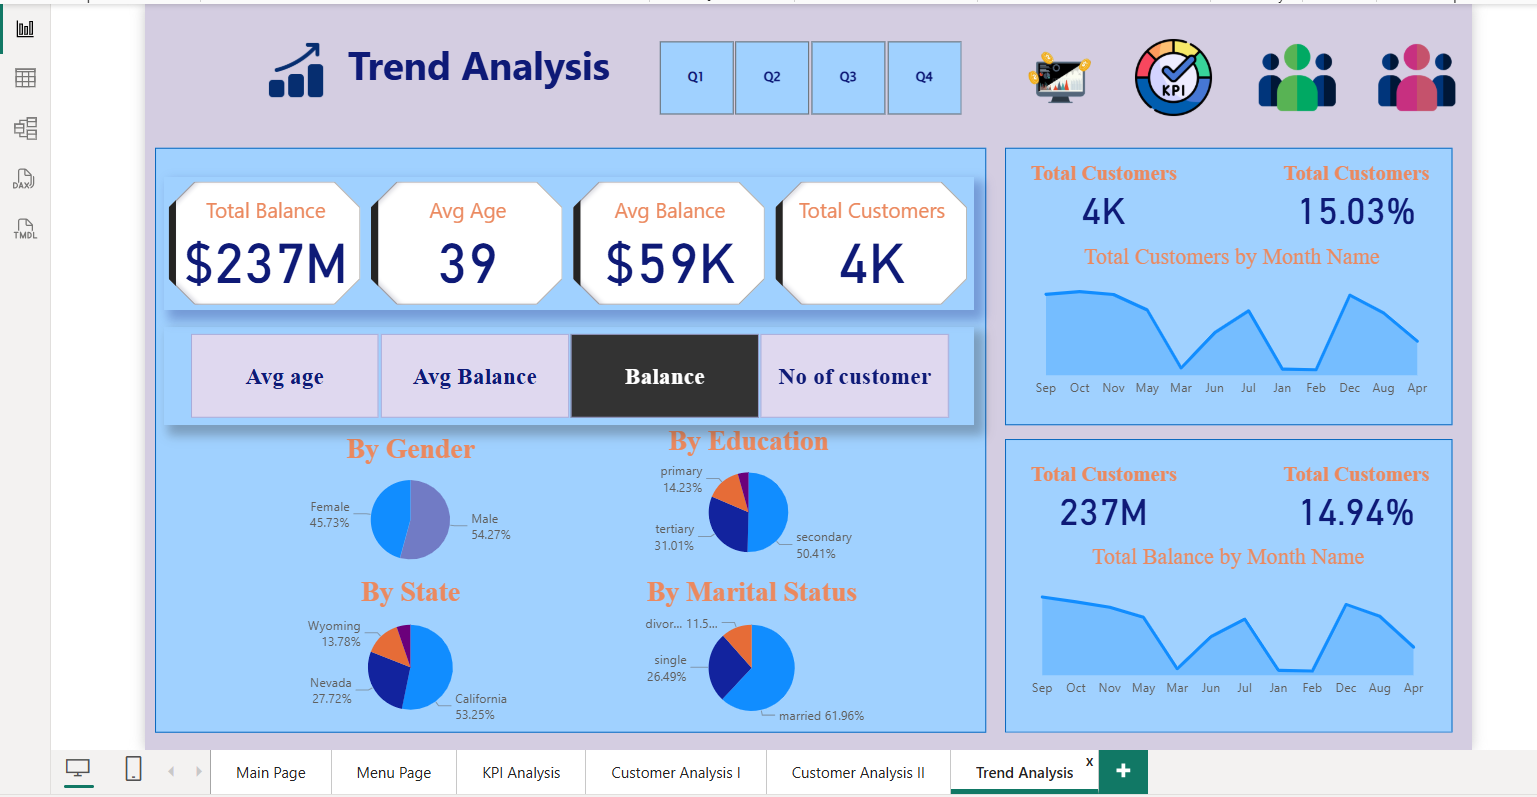

What the dashboard file says about the page in this screenshot:
{"tool":"powerbi","page":{"name":"Trend Analysis","canvas":[1280,720],"ordinal":5},"visuals":[{"type":"shape","box":[830,419.8,431.9,283.5],"z":0},{"type":"shape","box":[830,138.7,431.9,267.8],"z":1000},{"type":"shape","box":[9.7,138.7,802.3,564.6],"z":2000},{"type":"cardVisual","fields":{"Data":["Measure.Total Balance","Measure.Avg Age","Measure.Avg Balance","Measure.Total Customers"]},"box":[18.1,166.5,781.8,129.1],"z":3000},{"type":"pieChart","title":"By State","fields":{"Category":["Bank data.State"],"Y":["Measure.Measure Logic"]},"box":[146,552.5,220.8,146],"z":4000},{"type":"pieChart","title":"By Education","fields":{"Category":["Bank data.Education"],"Y":["Measure.Measure Logic"]},"box":[470.5,406.6,224.4,138.7],"z":5000},{"type":"pieChart","title":"By Gender","fields":{"Category":["Bank data.Gender"],"Y":["Measure.Measure Logic"]},"box":[150.8,413.8,211.1,138.7],"z":6000},{"type":"pieChart","title":"By Marital Status","fields":{"Category":["Bank data.Marital"],"Y":["Measure.Measure Logic"]},"box":[470.5,552.5,230.4,147.2],"z":7000},{"type":"slicer","fields":{"Values":["Selection Table.Measure"]},"box":[18.1,311.3,781.8,95.3],"z":8000},{"type":"areaChart","fields":{"Y":["Measure.Total Customers"],"Category":["Date Table.Month Name"]},"box":[851.7,231.6,394.5,156.8],"z":9000},{"type":"card","title":"Total Customers","fields":{"Values":["Measure.Total Customers"]},"box":[848.1,152,154.4,67.6],"z":10000},{"type":"card","title":"Total Customers","fields":{"Values":["Measure.Costomer MoM"]},"box":[1091.8,152,154.4,67.6],"z":11000},{"type":"areaChart","fields":{"Category":["Date Table.Month Name"],"Y":["Measure.Total Balance"]},"box":[848.1,521.2,394.5,156.8],"z":12000},{"type":"card","title":"Total Customers","fields":{"Values":["Measure.Total Balance"]},"box":[848.1,442.8,154.4,67.6],"z":13000},{"type":"card","title":"Total Customers","fields":{"Values":["Measure.Balance MoM"]},"box":[1091.8,442.8,154.4,67.6],"z":14000},{"type":"textbox","box":[190.6,29,279.9,66.4],"z":15000},{"type":"image","box":[840.9,29,84.5,84.5],"z":16000},{"type":"image","box":[950.7,29,84.5,84.5],"z":17000},{"type":"image","box":[1070.1,29,84.5,84.5],"z":18000},{"type":"image","box":[1184.7,29,85,84.5],"z":19000},{"type":"image","box":[111,29,70,70],"z":20000},{"type":"slicer","fields":{"Values":["Date Table.Quarter Name"]},"box":[470.5,29,341.4,84.5],"z":21000}]}

Visuals, with their boxes on the page's 1280x720 design canvas (x1, y1, x2, y2). These are canvas units, not pixel positions in the 1537x797 screenshot, which may show the page scaled, cropped or inside an application window:
shape: select_region(830, 420, 1262, 703)
shape: select_region(830, 139, 1262, 406)
shape: select_region(10, 139, 812, 703)
cardVisual - Measure.Total Balance x Measure.Avg Age: select_region(18, 166, 800, 296)
"By State" pieChart: select_region(146, 552, 367, 698)
"By Education" pieChart: select_region(470, 407, 695, 545)
"By Gender" pieChart: select_region(151, 414, 362, 552)
"By Marital Status" pieChart: select_region(470, 552, 701, 700)
slicer - Selection Table.Measure: select_region(18, 311, 800, 407)
areaChart - Measure.Total Customers x Date Table.Month Name: select_region(852, 232, 1246, 388)
"Total Customers" card: select_region(848, 152, 1002, 220)
"Total Customers" card: select_region(1092, 152, 1246, 220)
areaChart - Date Table.Month Name x Measure.Total Balance: select_region(848, 521, 1243, 678)
"Total Customers" card: select_region(848, 443, 1002, 510)
"Total Customers" card: select_region(1092, 443, 1246, 510)
textbox: select_region(191, 29, 470, 95)
image: select_region(841, 29, 925, 114)
image: select_region(951, 29, 1035, 114)
image: select_region(1070, 29, 1155, 114)
image: select_region(1185, 29, 1270, 114)
image: select_region(111, 29, 181, 99)
slicer - Date Table.Quarter Name: select_region(470, 29, 812, 114)
